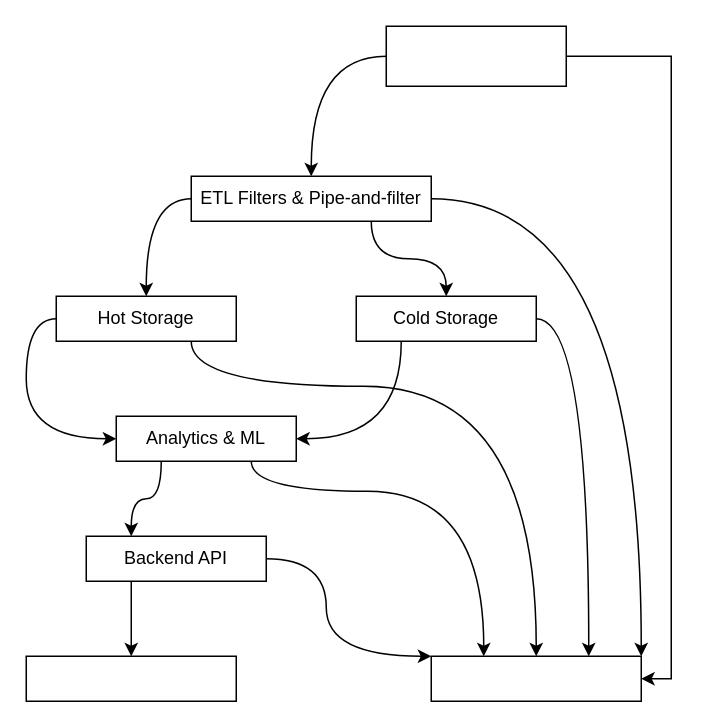
The diagram is 710 pixels wide and 728 high, and some of its shapes have lost their labels. The shapes that lost their labels are listed below. From the top down, each one's centre as x and y in pixels, then its label:
At point (475, 55): "Ingest Workers (работници)".
At point (130, 678): "Frontend/dashboards".
At point (535, 678): "Monitoring & Logging".
